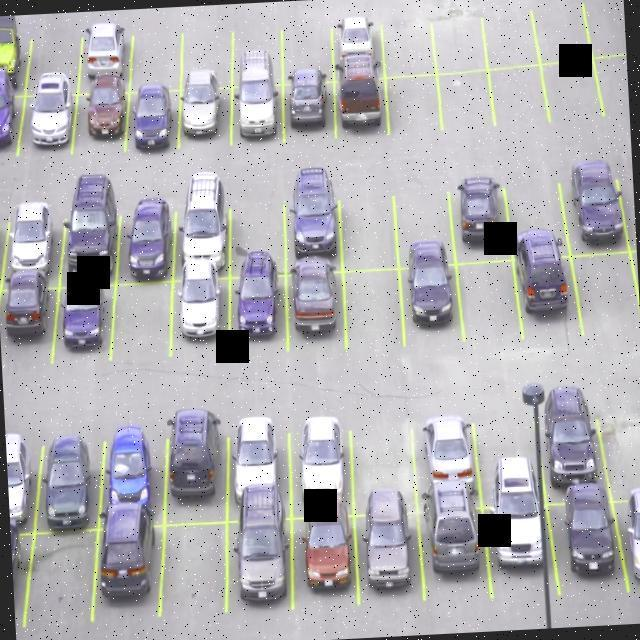car: (543, 497, 631, 596), (290, 511, 362, 616), (91, 518, 167, 616), (420, 502, 496, 600), (480, 499, 558, 594), (168, 409, 235, 517), (557, 164, 635, 256), (102, 424, 172, 525), (510, 248, 580, 342), (229, 418, 291, 522), (228, 515, 292, 615), (356, 508, 424, 602), (446, 176, 518, 264), (290, 422, 354, 520), (417, 412, 483, 506), (39, 429, 101, 529), (224, 268, 292, 355), (542, 408, 604, 499), (170, 268, 235, 352), (401, 260, 461, 348), (286, 266, 348, 348), (0, 281, 62, 363), (56, 282, 118, 361), (284, 188, 343, 270), (64, 206, 120, 286), (3, 207, 61, 283), (230, 82, 289, 155), (123, 88, 185, 156), (119, 202, 172, 278), (282, 77, 337, 145), (82, 24, 134, 94), (177, 203, 229, 272), (178, 90, 234, 154), (328, 15, 382, 79), (6, 431, 40, 532), (334, 79, 384, 142), (72, 92, 128, 148), (22, 96, 77, 150), (10, 522, 28, 624), (0, 86, 26, 155), (0, 29, 26, 89)
free: (27, 530, 99, 624), (164, 516, 232, 610), (475, 416, 545, 500), (500, 175, 570, 256), (351, 430, 420, 512), (338, 188, 396, 277), (459, 262, 518, 348), (340, 267, 404, 346), (394, 182, 455, 263), (109, 280, 173, 357), (431, 1, 492, 80), (580, 254, 638, 334), (229, 196, 288, 272), (480, 0, 539, 72), (437, 72, 496, 142), (384, 74, 441, 144), (383, 11, 437, 84), (535, 0, 592, 68), (542, 60, 599, 128), (491, 69, 548, 136), (26, 32, 82, 96), (603, 404, 640, 496), (126, 36, 186, 88), (234, 29, 286, 88), (183, 33, 235, 89), (286, 22, 331, 84)
